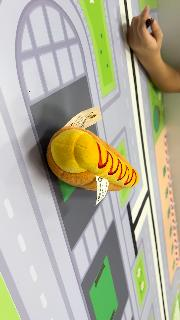hotdog: (46, 126, 140, 192)
